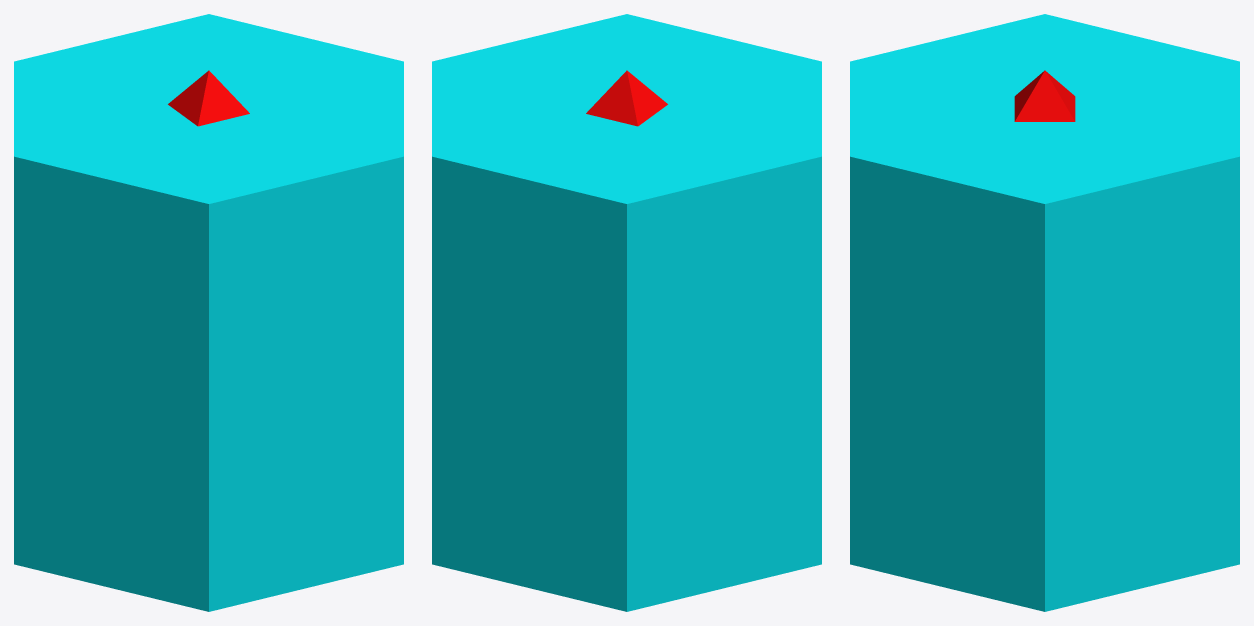
The model's file is hexagono-opaco.glb.
3 views of the same model, side by side, from view 1: azimuth 30°, elevation 25°; view 2: azimuth 150°, elevation 25°; view 3: azimuth 270°, elevation 25° (orthographic).
Parts seen in each view (by area): view 1: Hexagono, Hedra001; view 2: Hexagono, Hedra001; view 3: Hexagono, Hedra001.
Boxes of the visible parts, bbox=[...] form: Hexagono: bbox=[14, 14, 403, 611]; Hedra001: bbox=[168, 70, 249, 126]; Hexagono: bbox=[432, 14, 821, 611]; Hedra001: bbox=[586, 70, 667, 126]; Hexagono: bbox=[850, 14, 1239, 611]; Hedra001: bbox=[1014, 70, 1075, 121].
Size of the model in its own units: 0.762 by 0.8345 by 0.6599.
